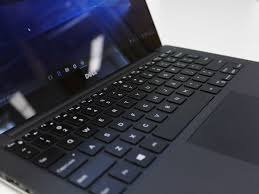keyboard: (0, 65, 250, 194)
